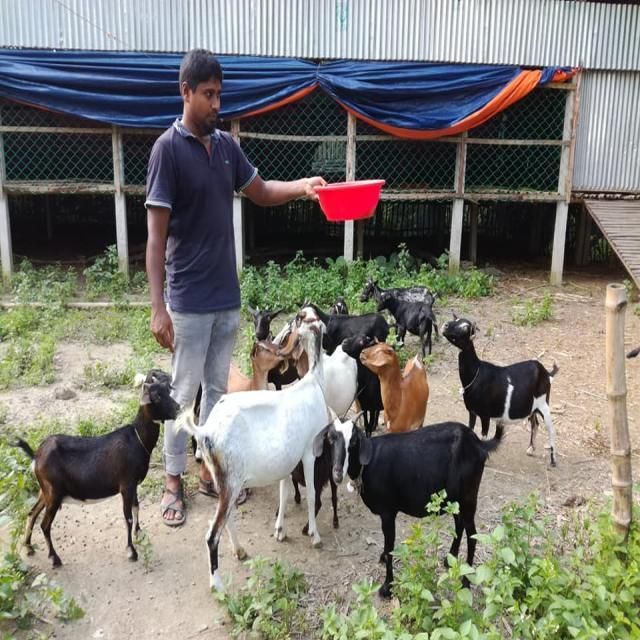Goat: (174, 312, 332, 593), (327, 410, 506, 598), (13, 368, 181, 567), (441, 311, 560, 467)
